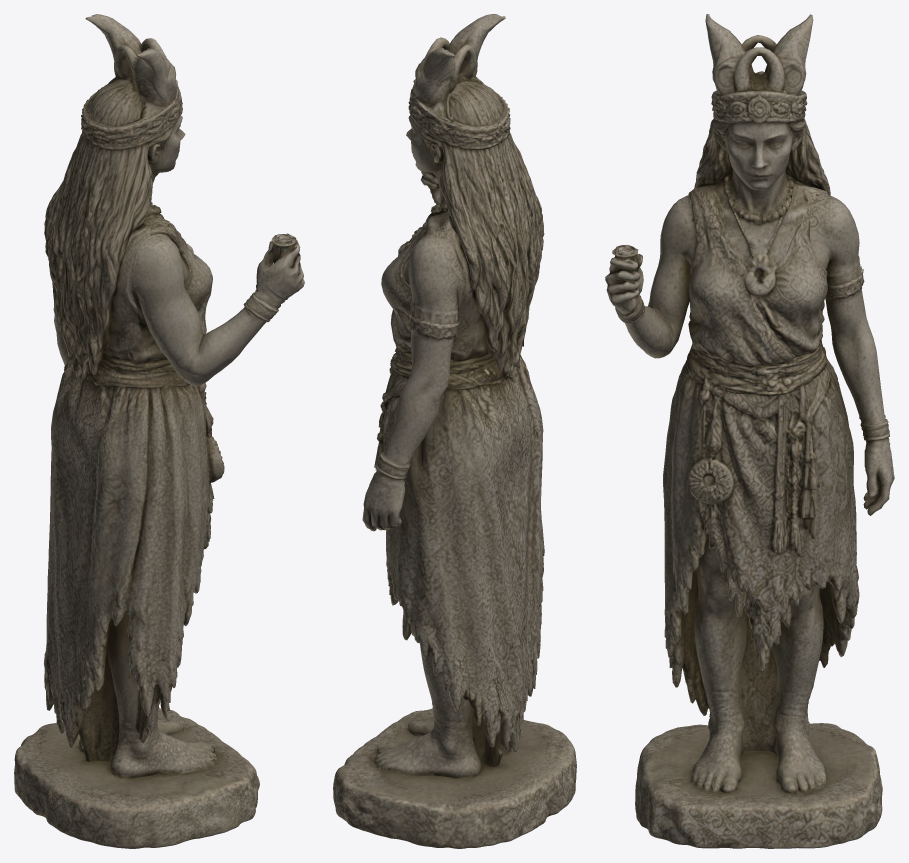
File: ancient_goddess_statue_3d_model.fbx
The picture shows the model from 3 angles, left to right: view 1: azimuth 30°, elevation 25°; view 2: azimuth 150°, elevation 25°; view 3: azimuth 270°, elevation 25°; orthographic projection.
Parts seen in each view (by area): view 1: tripo_node_e5c7f90c; view 2: tripo_node_e5c7f90c; view 3: tripo_node_e5c7f90c.
Part boxes in pixels (x1,y1,x2,y2): tripo_node_e5c7f90c: (14,14,304,848); tripo_node_e5c7f90c: (333,14,576,848); tripo_node_e5c7f90c: (605,14,894,848).
Bounding box in the file's own units: 0.2606 × 0.9791 × 0.3293.
